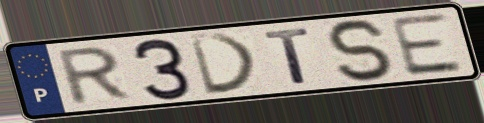3: (129, 35, 192, 103)
D: (186, 31, 262, 98)
E: (386, 11, 467, 79)
R: (56, 44, 136, 108)
S: (323, 17, 401, 84)
T: (261, 25, 315, 87)
